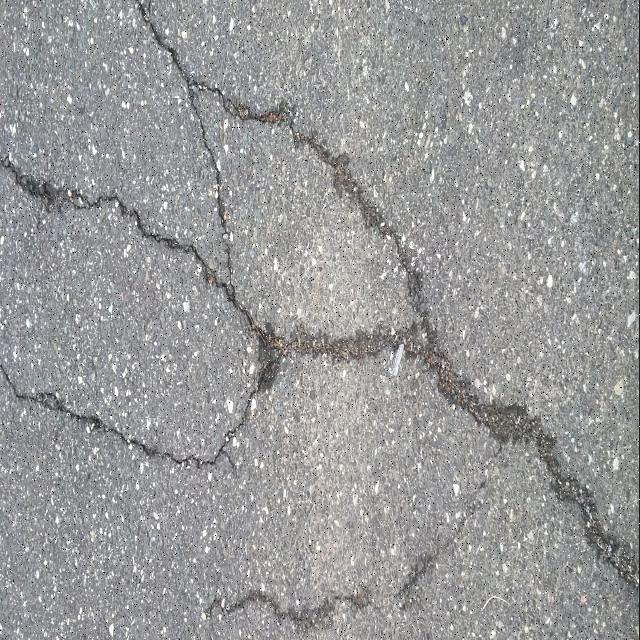Crack: (0, 0, 640, 592), (395, 508, 474, 597), (208, 589, 382, 628)
